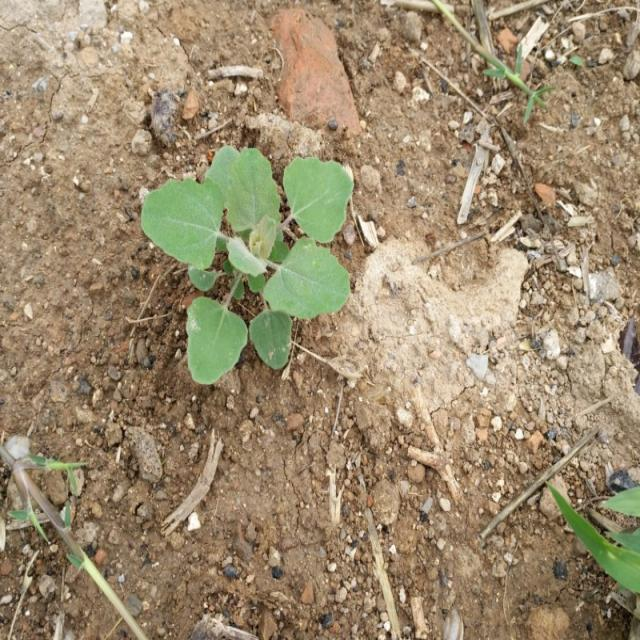ca: (142, 150, 353, 386)
